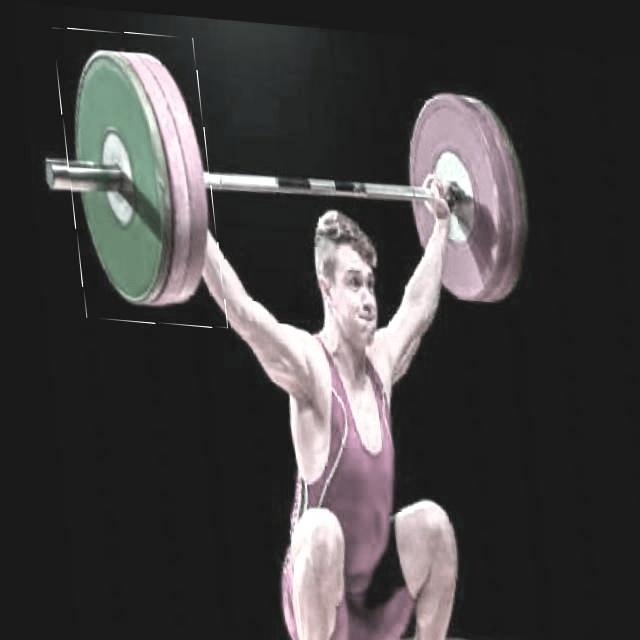barbell: (53, 25, 221, 327)
